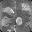people: (1, 17, 12, 27), (2, 7, 14, 16), (15, 17, 23, 25)
